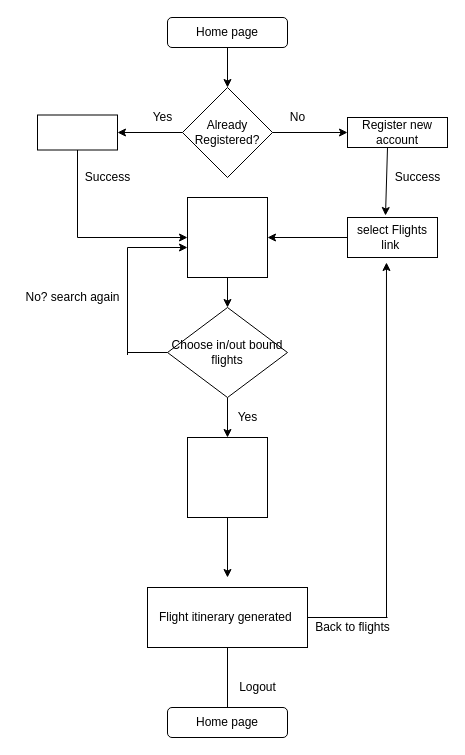
Some shapes in this 465 by 755 pixel diagram are drawn without their labels. The shapes that lost their labels are listed below. From the top down, each one's box as (x1, y1, x2, y2) in pixels, then its label:
(36, 114, 118, 150): Login
(186, 196, 268, 278): Flight Search
(186, 436, 268, 518): Enter passenger & payment info
